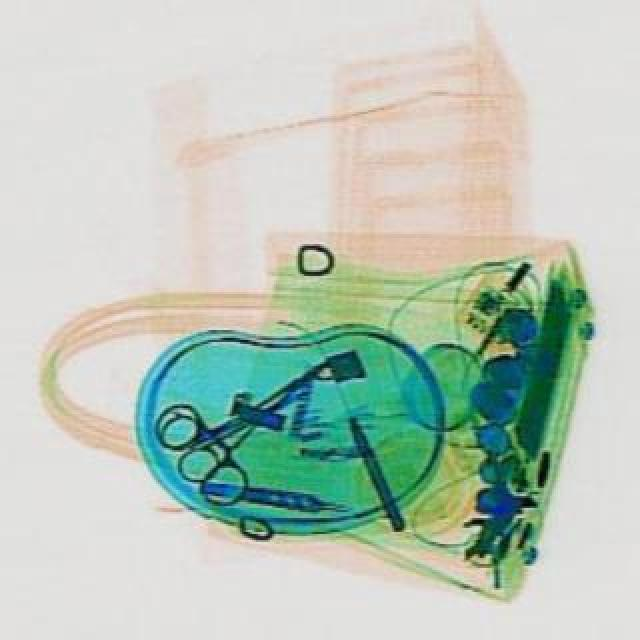pliers: (140, 322, 368, 514), (148, 354, 316, 486)
